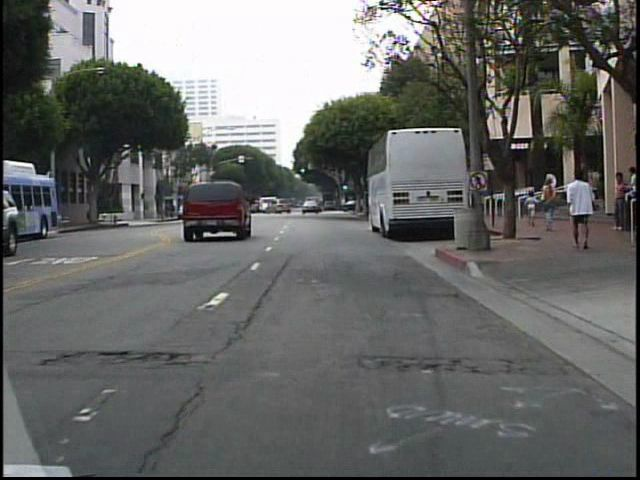person: (565, 168, 598, 251), (540, 176, 559, 237), (609, 168, 626, 236), (524, 192, 540, 229)
